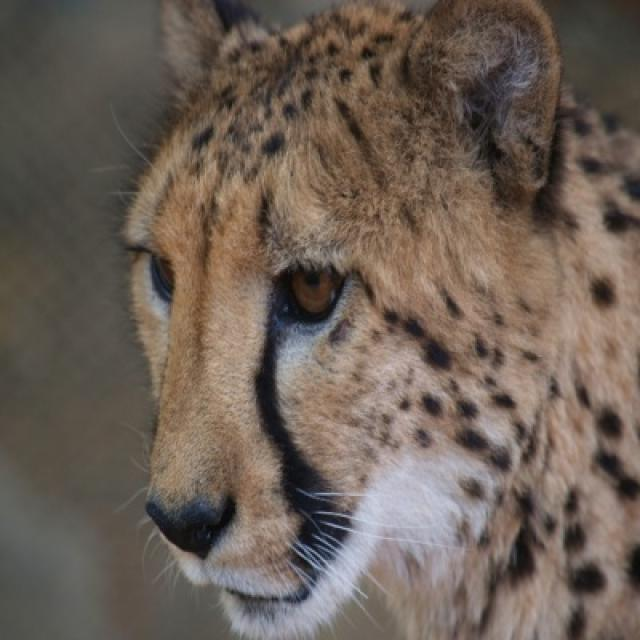Cheetah: (120, 0, 638, 638)
